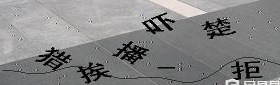chinese: (115, 40, 151, 69), (145, 10, 177, 39), (35, 47, 72, 71), (229, 57, 266, 81), (201, 17, 238, 40), (79, 60, 110, 84)
